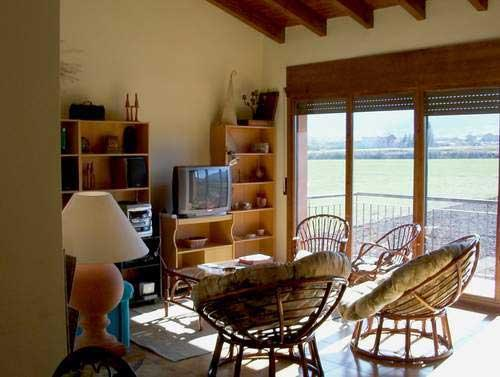Otro Obstaculo: (62, 188, 144, 358)
Puerta: (299, 98, 350, 264)
Ventana: (417, 98, 496, 305), (349, 104, 418, 271)
